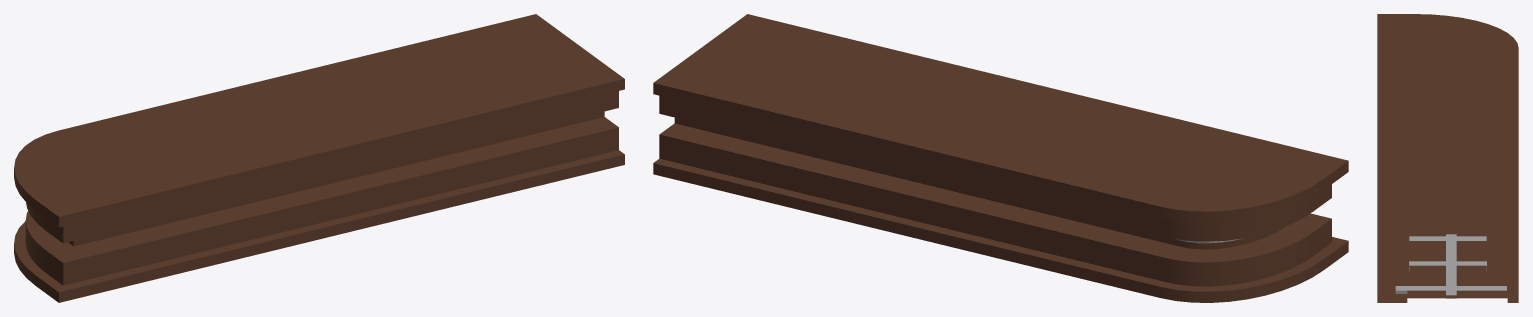
File: SM_Hautbar2.fbx
3 renders of one model, left to right at view 1: azimuth 30°, elevation 25°; view 2: azimuth 150°, elevation 25°; view 3: azimuth 270°, elevation 25°, orthographic. The views are drawn at different scales.
Visible parts, largest first — view 1: Barhaut; view 2: Barhaut; view 3: Barhaut.
Boxes of the visible parts, x1,y1,x2,y2 form: Barhaut: (14, 14, 624, 302); Barhaut: (653, 14, 1348, 302); Barhaut: (1377, 14, 1518, 302).
Size of the model in its own units: 919 by 133 by 248.
